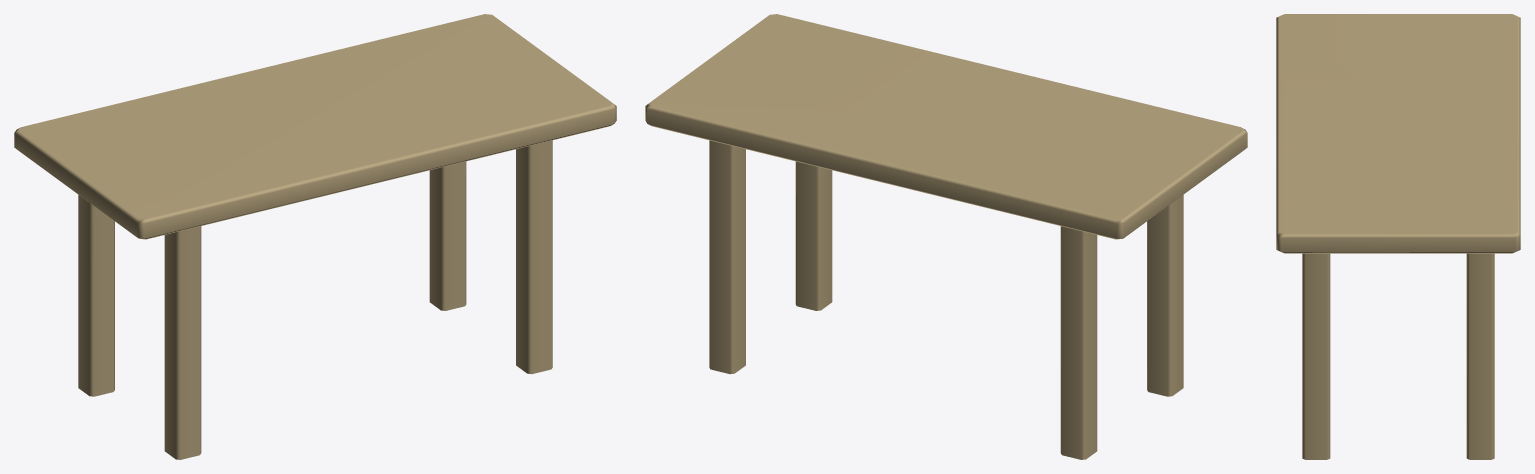
File: SM_Desk_01.fbx
3 renders of one model, left to right at view 1: azimuth 30°, elevation 25°; view 2: azimuth 150°, elevation 25°; view 3: azimuth 270°, elevation 25°, orthographic. The views are drawn at different scales.
Parts seen in each view (by area): view 1: SM_Desk_01; view 2: SM_Desk_01; view 3: SM_Desk_01.
Part boxes in pixels (x1=…): SM_Desk_01: x1=14, y1=14, x2=616, y2=459; SM_Desk_01: x1=645, y1=14, x2=1247, y2=459; SM_Desk_01: x1=1276, y1=14, x2=1520, y2=459.
Size of the model in its own units: 161 by 83.92 by 74.75.
